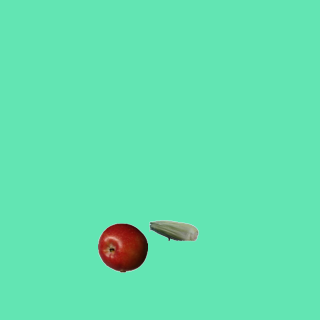Apple Braeburn: (97, 222, 147, 272)
Corn Husk: (148, 205, 198, 255)
